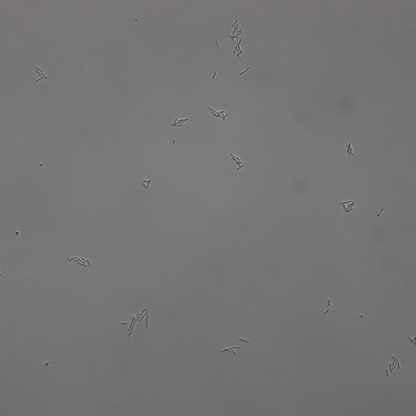R(colony): (120, 307, 151, 339), (384, 356, 402, 376), (229, 19, 242, 42), (340, 199, 357, 216), (209, 106, 228, 120), (66, 256, 90, 267), (233, 39, 244, 60), (232, 153, 244, 171), (171, 116, 189, 128), (35, 67, 49, 81), (345, 142, 355, 157), (222, 347, 240, 355), (142, 178, 151, 190)
